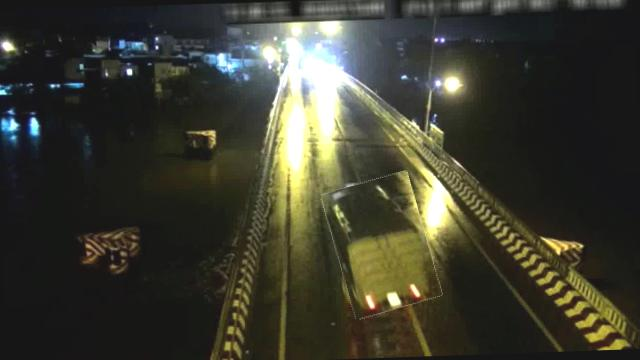Car: (327, 175, 436, 318)
